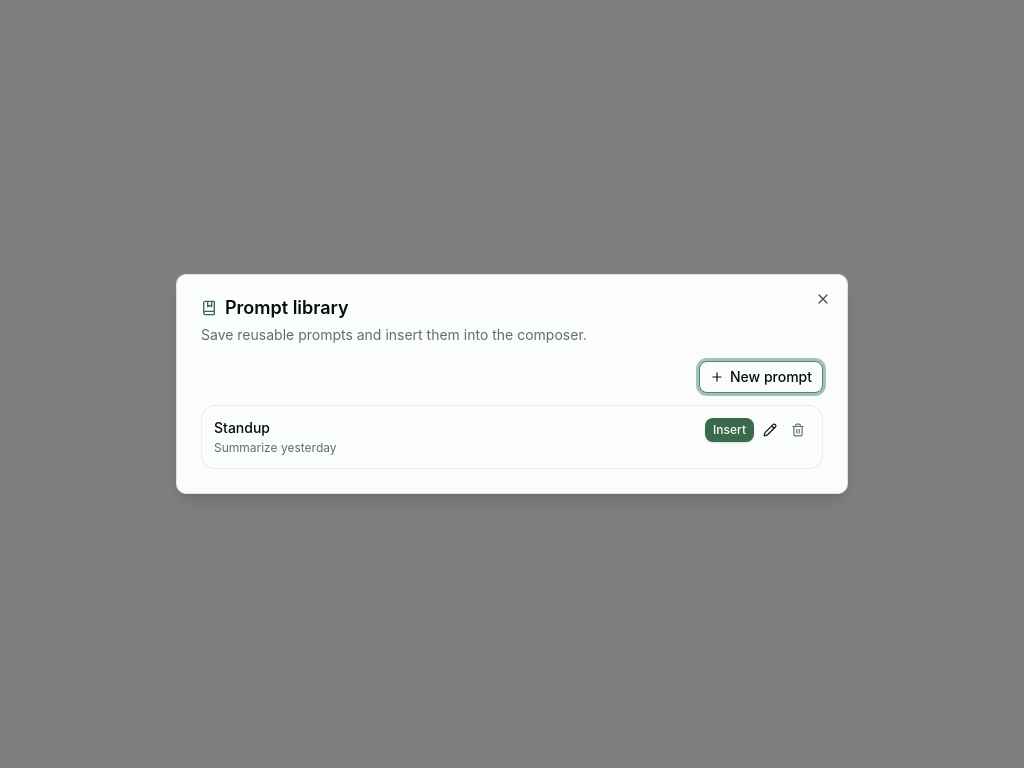
PromptLibraryDialog › deletes a prompt after confirmation
The image size is (1024, 768).
Check: the text "Standup" is shown, box 214,419 -> 270,436
Click the button named "Delete Standup".
click(798, 430)  # box 786,418 -> 810,442
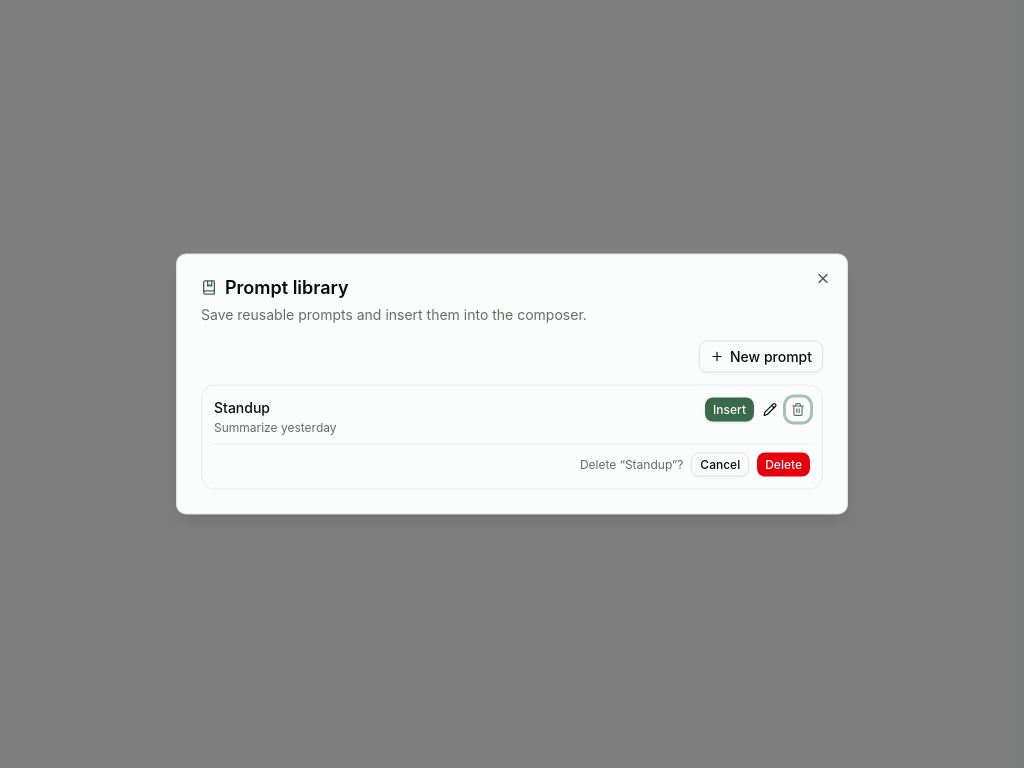
Check: the text "Delete “Standup”?" is shown, box 580,456 -> 683,472
Click the button "Delete".
click(784, 464)  # box 757,452 -> 810,476
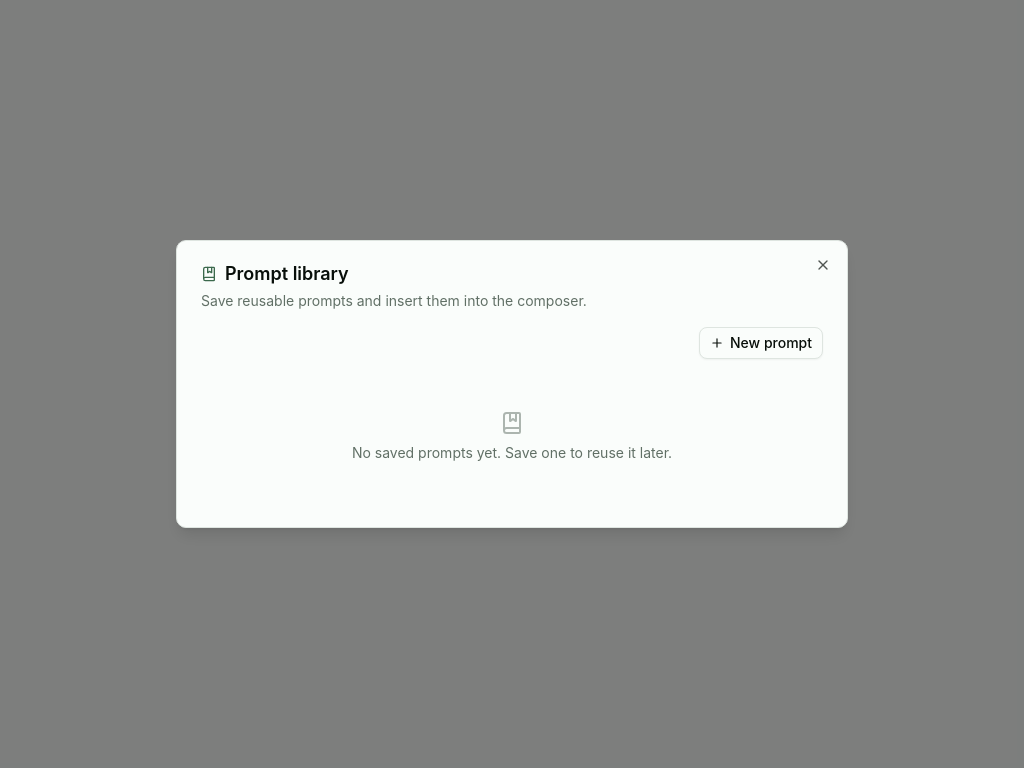
Check: the text "No saved prompts yet. Save one to reuse it later." is shown, box 352,411 -> 672,461
